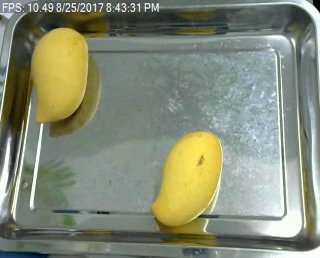Mango: (151, 129, 225, 229), (27, 25, 91, 126)
